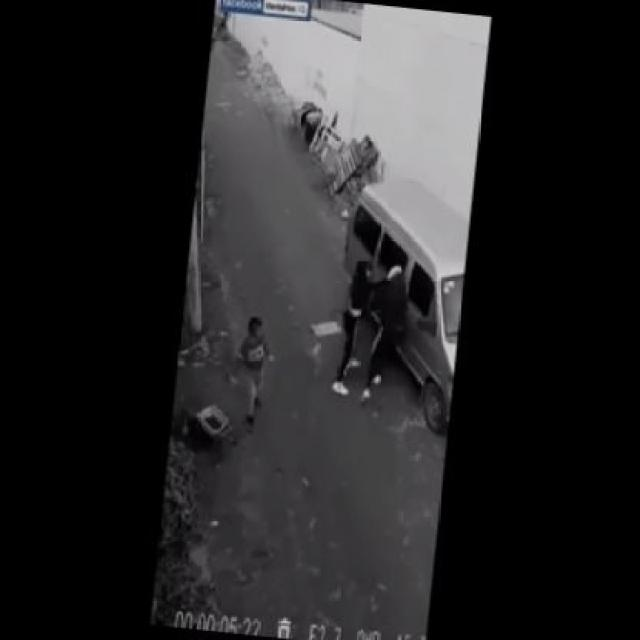fight: (323, 248, 420, 406)
non-fight: (226, 310, 279, 424)
